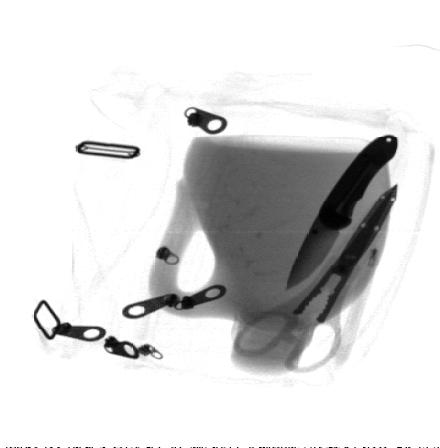Knife: (284, 134, 398, 291)
Scissors: (235, 183, 397, 374)
